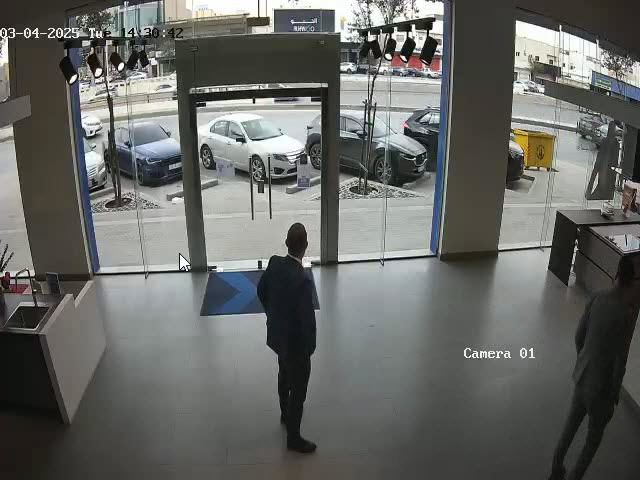employee: (547, 241, 638, 479), (256, 222, 320, 454)
